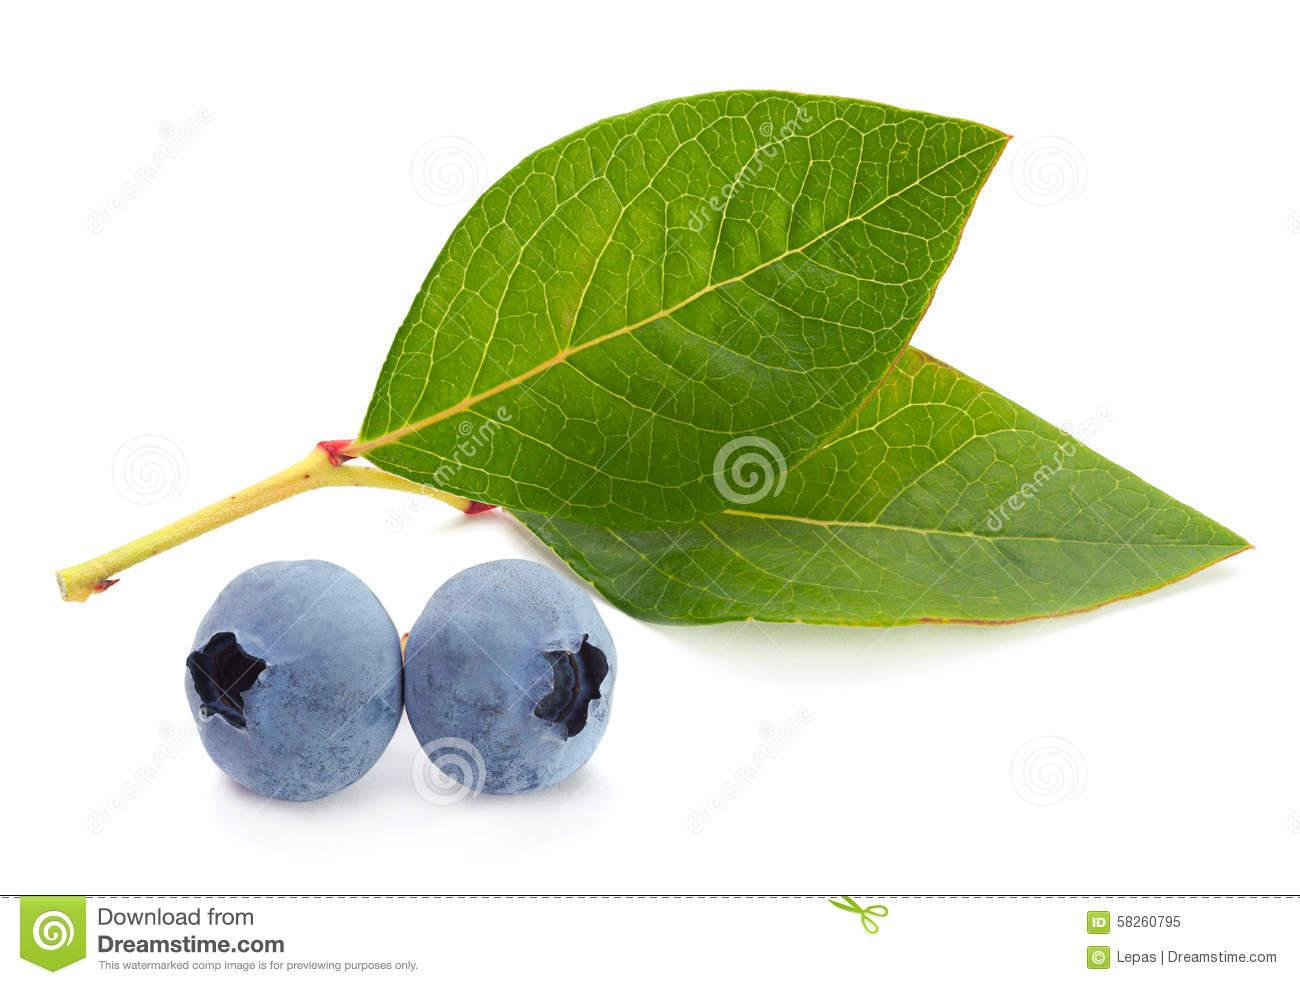Blueberry leaf: (363, 79, 1044, 542), (552, 335, 1274, 654)
